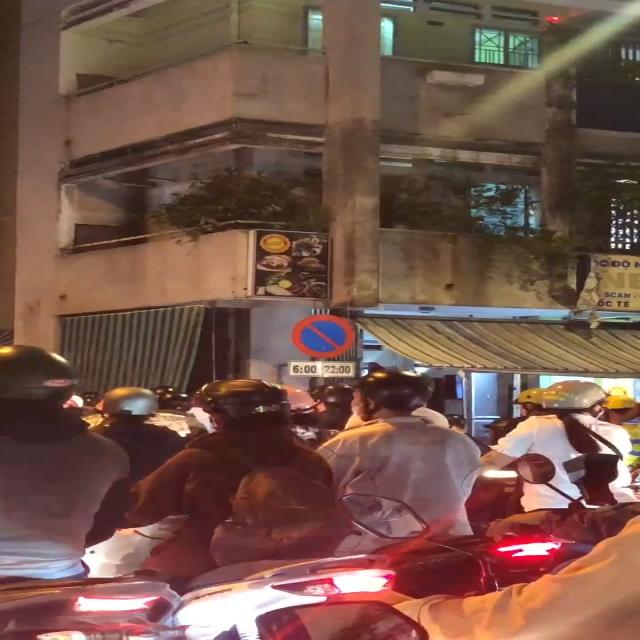Bien bao cam do xe: (286, 310, 367, 358)
